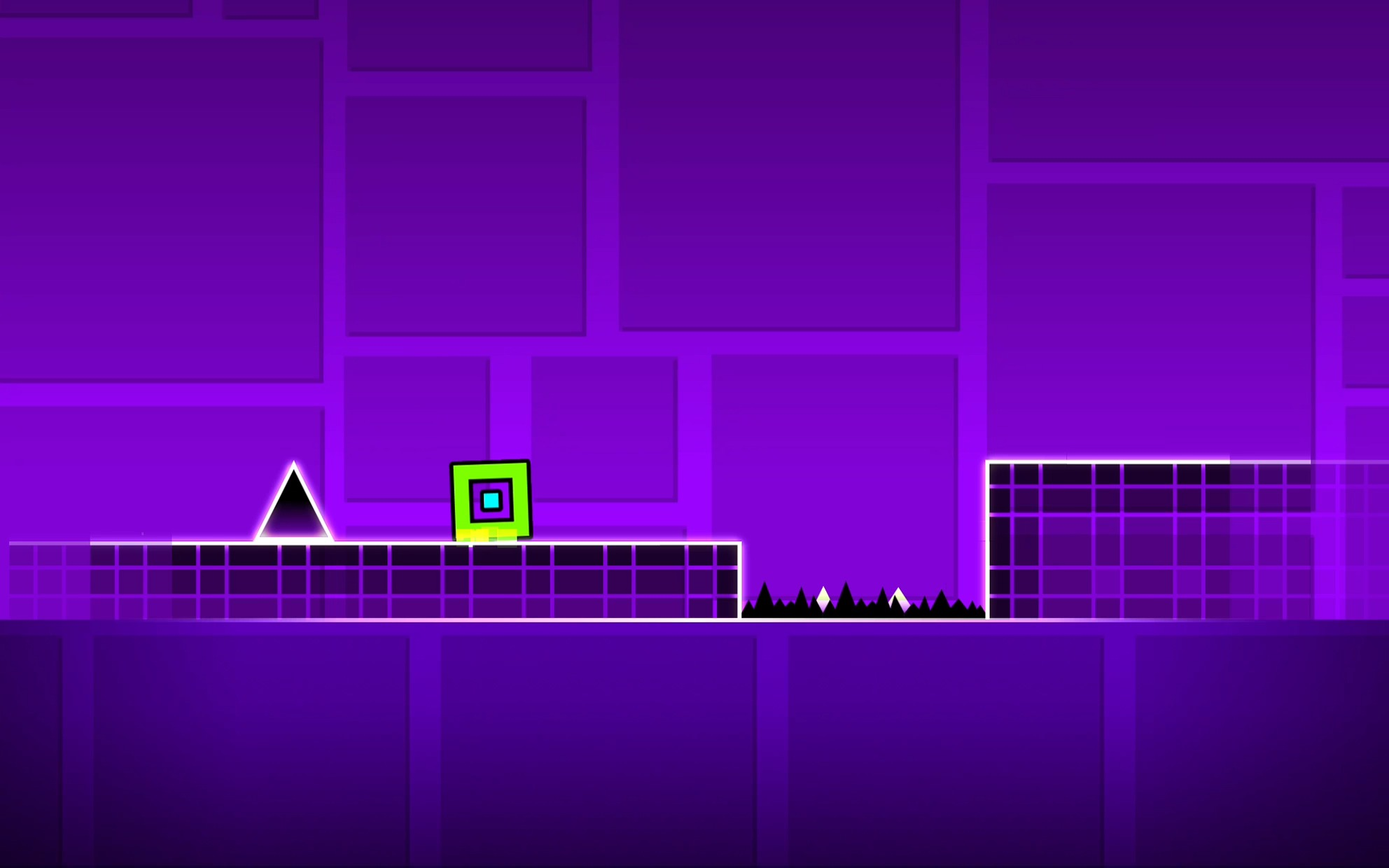Block2: (988, 459, 1383, 619), (0, 540, 738, 615)
Player: (448, 460, 531, 540)
Spike: (255, 462, 332, 538)
Spike3: (742, 582, 984, 622)
